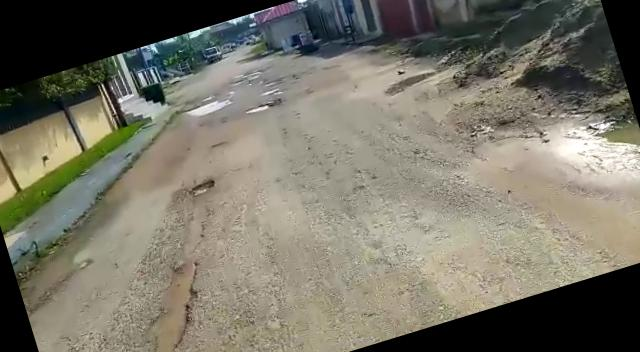pothole: (179, 94, 235, 122), (242, 98, 280, 116), (190, 178, 217, 196)
